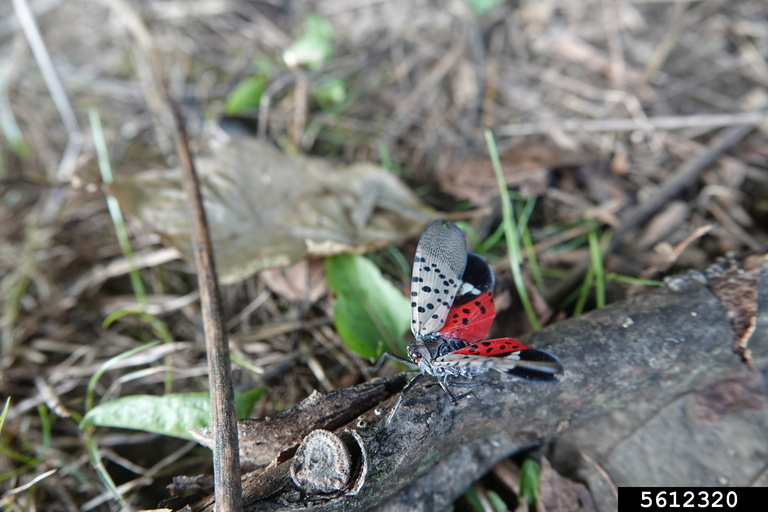adult: (384, 201, 571, 420)
